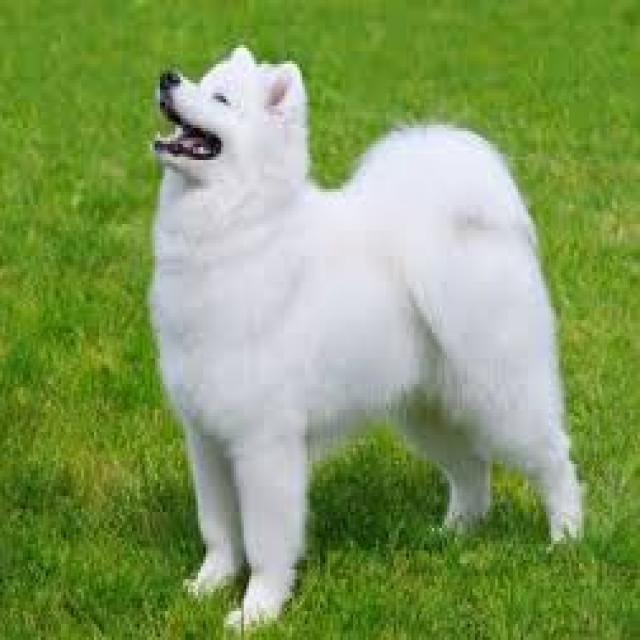dogs: (149, 42, 584, 622)
